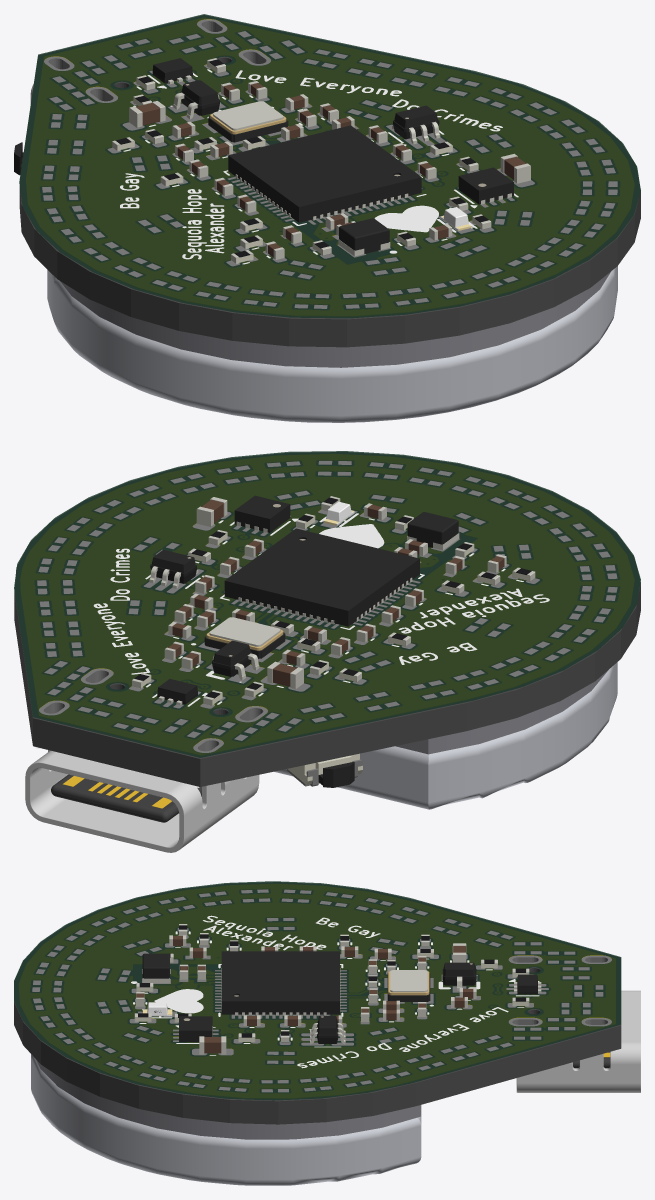
Rendered from board.glb.
The picture shows the model from 3 angles, top to bottom: view 1: azimuth 30°, elevation 25°; view 2: azimuth 150°, elevation 25°; view 3: azimuth 270°, elevation 25°; orthographic projection. The views are drawn at different scales.
Parts seen in each view (by area): view 1: earring_soldermask, earring_copper, lpr302823, earring_PCB, earring_pad, QFN-56-1EP_7x7mm_P0.4mm_EP3.2x3.2mm, vhb_4956, earring_silkscreen, Crystal_SMD_3225-4Pin_3.2x2.5mm, L_Murata_DFE201610P, VDFN-8-1EP_2x2mm_P0.5mm_EP0.9x1.7mm, C_0603_1608Metric (×2) (+3 smaller); view 2: earring_soldermask, earring_copper, earring_PCB, earring_pad, USB_C_Receptacle_HRO_TYPE-C-31-M-12, lpr302823, QFN-56-1EP_7x7mm_P0.4mm_EP3.2x3.2mm, earring_silkscreen, vhb_4956, Crystal_SMD_3225-4Pin_3.2x2.5mm, SW_SPST_B3U-3000P, VDFN-8-1EP_2x2mm_P0.5mm_EP0.9x1.7mm (+5 smaller); view 3: earring_soldermask, earring_copper, earring_PCB, lpr302823, earring_pad, QFN-56-1EP_7x7mm_P0.4mm_EP3.2x3.2mm, vhb_4956, USB_C_Receptacle_HRO_TYPE-C-31-M-12, earring_silkscreen, Crystal_SMD_3225-4Pin_3.2x2.5mm, L_Murata_DFE201610P, SOT-363_SC-70-6 (+4 smaller).
Part boxes in pixels (bbox=[...]): earring_soldermask: bbox=[19, 14, 640, 318]; earring_copper: bbox=[26, 18, 633, 315]; lpr302823: bbox=[47, 266, 617, 422]; earring_PCB: bbox=[19, 15, 640, 347]; earring_pad: bbox=[42, 19, 617, 309]; QFN-56-1EP_7x7mm_P0.4mm_EP3.2x3.2mm: bbox=[228, 125, 421, 222]; vhb_4956: bbox=[60, 271, 611, 367]; earring_silkscreen: bbox=[120, 69, 518, 264]; Crystal_SMD_3225-4Pin_3.2x2.5mm: bbox=[208, 101, 288, 142]; L_Murata_DFE201610P: bbox=[338, 218, 390, 256]; VDFN-8-1EP_2x2mm_P0.5mm_EP0.9x1.7mm: bbox=[458, 167, 513, 204]; C_0603_1608Metric (×2): bbox=[129, 101, 530, 183]; earring_soldermask: bbox=[14, 451, 640, 757]; earring_copper: bbox=[20, 454, 633, 755]; earring_PCB: bbox=[14, 452, 640, 786]; earring_pad: bbox=[37, 461, 617, 752]; USB_C_Receptacle_HRO_TYPE-C-31-M-12: bbox=[25, 750, 259, 852]; lpr302823: bbox=[274, 662, 617, 809]; QFN-56-1EP_7x7mm_P0.4mm_EP3.2x3.2mm: bbox=[224, 528, 419, 626]; earring_silkscreen: bbox=[93, 513, 549, 706]; vhb_4956: bbox=[395, 670, 608, 754]; Crystal_SMD_3225-4Pin_3.2x2.5mm: bbox=[204, 617, 285, 658]; SW_SPST_B3U-3000P: bbox=[287, 753, 362, 787]; VDFN-8-1EP_2x2mm_P0.5mm_EP0.9x1.7mm: bbox=[234, 495, 290, 532]; earring_soldermask: bbox=[14, 881, 621, 1100]; earring_copper: bbox=[19, 884, 615, 1098]; earring_PCB: bbox=[14, 882, 621, 1124]; lpr302823: bbox=[31, 1054, 421, 1185]; earring_pad: bbox=[32, 889, 611, 1092]; QFN-56-1EP_7x7mm_P0.4mm_EP3.2x3.2mm: bbox=[221, 951, 340, 1015]; vhb_4956: bbox=[36, 1059, 421, 1139]; USB_C_Receptacle_HRO_TYPE-C-31-M-12: bbox=[516, 990, 640, 1092]; earring_silkscreen: bbox=[131, 915, 539, 1068]; Crystal_SMD_3225-4Pin_3.2x2.5mm: bbox=[387, 970, 430, 1001]; L_Murata_DFE201610P: bbox=[142, 953, 169, 983]; SOT-363_SC-70-6: bbox=[310, 1015, 345, 1044].
Bounding box in the file's own units: 0.0305 × 0.00748 × 0.0368.
